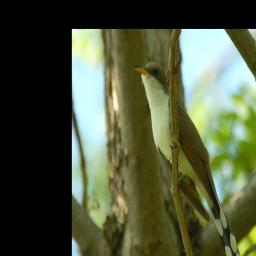Cuckoo: (133, 62, 241, 256)
